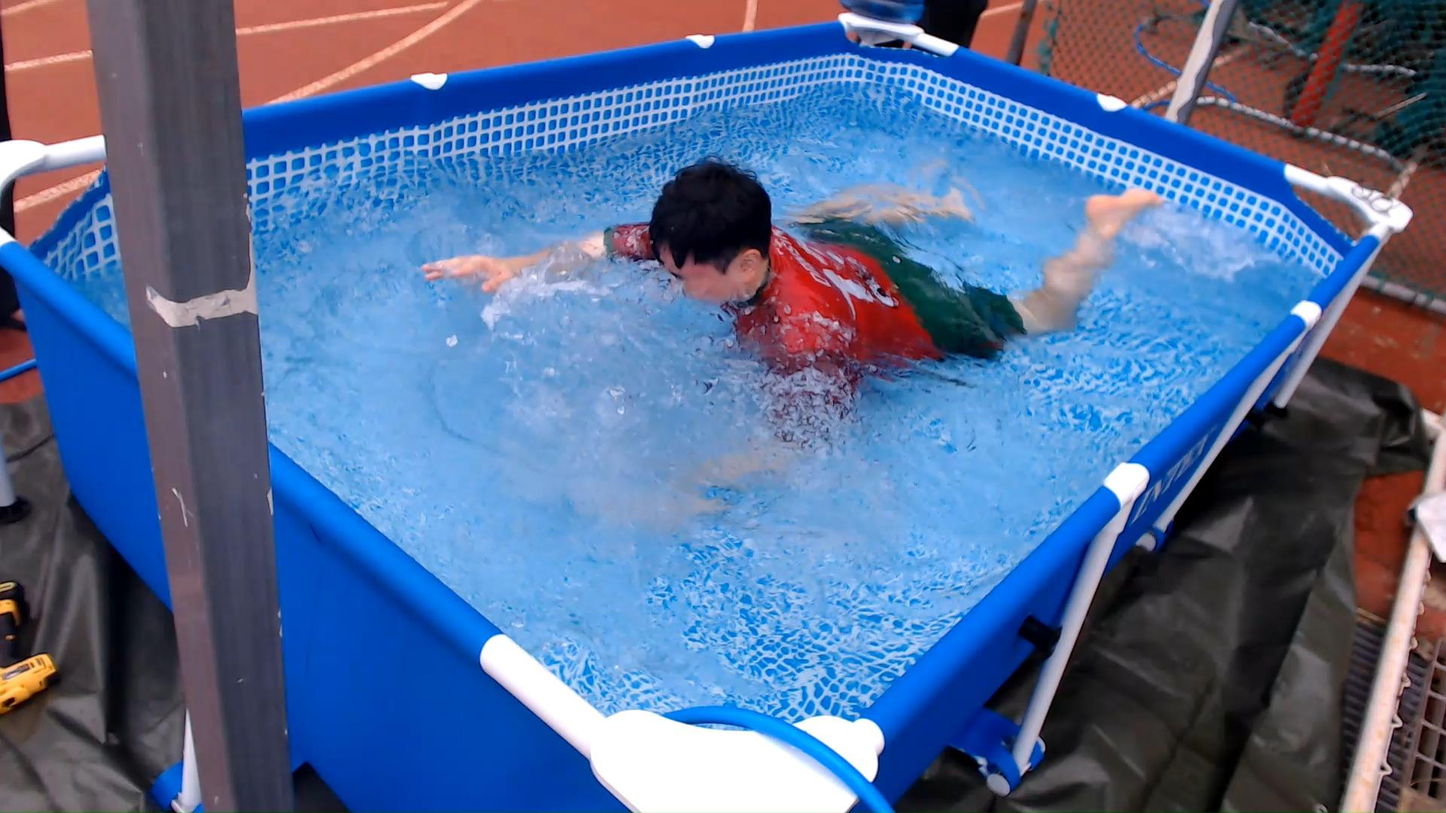Drowning: (380, 71, 1163, 531)
